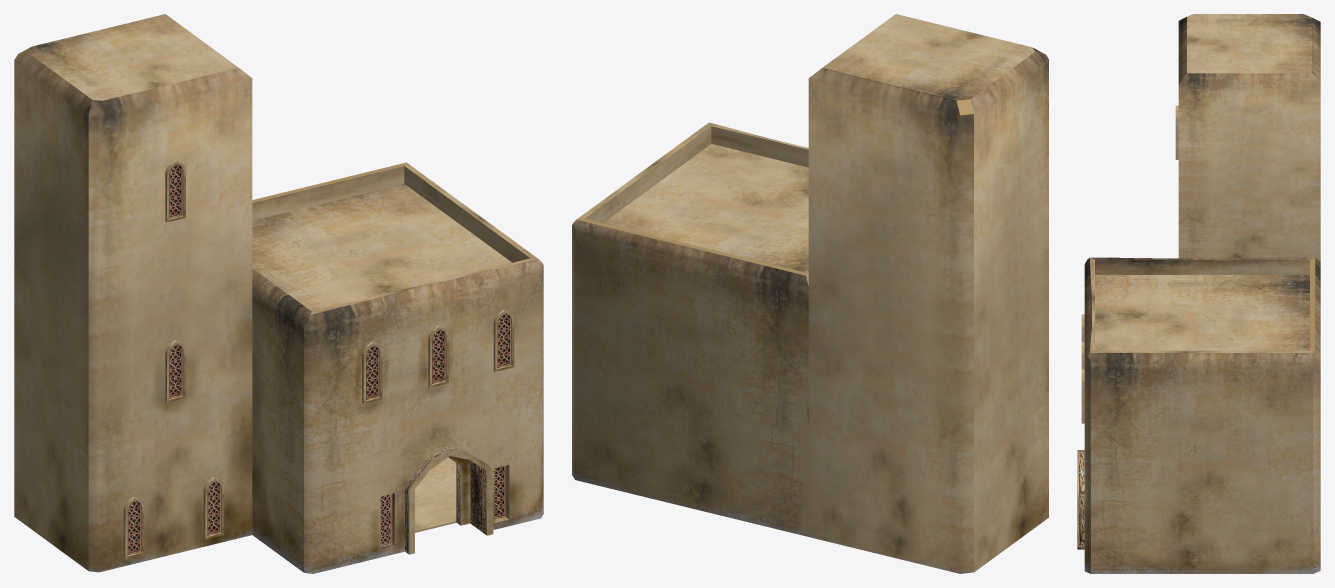
File: building14.fbx
3 views of the same model, side by side, from view 1: azimuth 30°, elevation 25°; view 2: azimuth 150°, elevation 25°; view 3: azimuth 270°, elevation 25° (orthographic). The views are drawn at different scales.
Visible parts, largest first — view 1: U3DMesh; view 2: U3DMesh; view 3: U3DMesh.
Part boxes in pixels (x1,y1,x2,y2): U3DMesh: [14, 14, 543, 573]; U3DMesh: [572, 14, 1048, 573]; U3DMesh: [1077, 14, 1320, 573].
Bounding box in the file's own units: 506 × 564 × 313.
